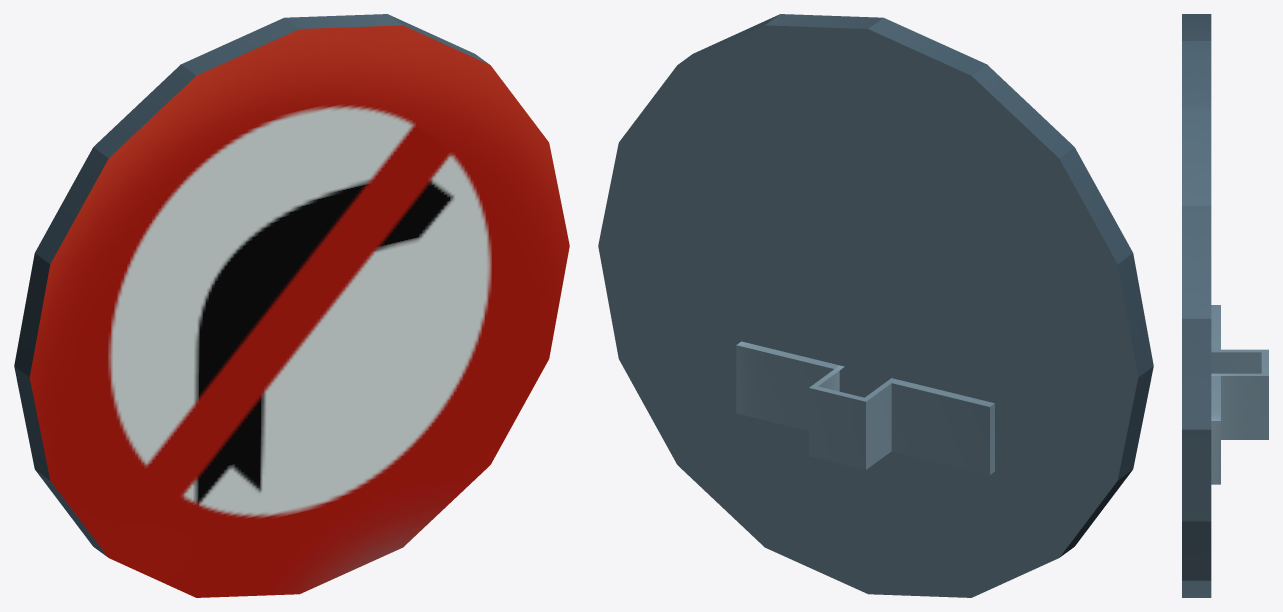
The model's file is Sign50Austrian.fbx.
The picture shows the model from 3 angles, left to right: view 1: azimuth 30°, elevation 25°; view 2: azimuth 150°, elevation 25°; view 3: azimuth 270°, elevation 25°; orthographic projection. The views are drawn at different scales.
Parts seen in each view (by area): view 1: Sign50Austrian; view 2: Sign50Austrian; view 3: Sign50Austrian.
Part boxes in pixels (box(x1,y1,x2,y2)): Sign50Austrian: box(14, 14, 569, 597); Sign50Austrian: box(598, 14, 1153, 597); Sign50Austrian: box(1182, 14, 1268, 597).
Size of the model in its own units: 1 by 1 by 0.1489.
